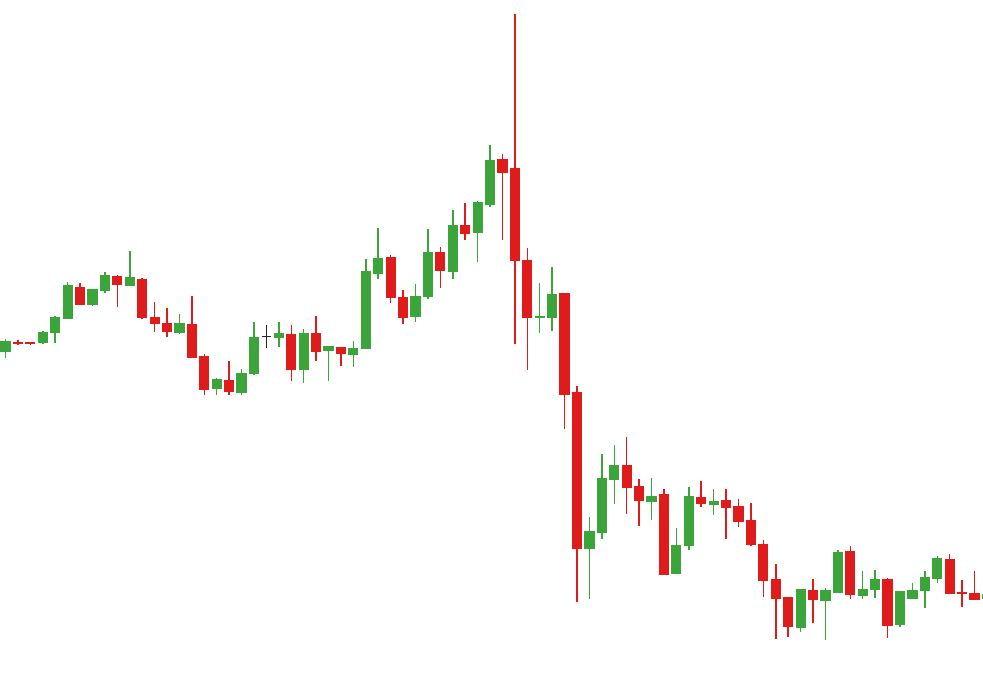buy: (585, 496, 809, 638)
